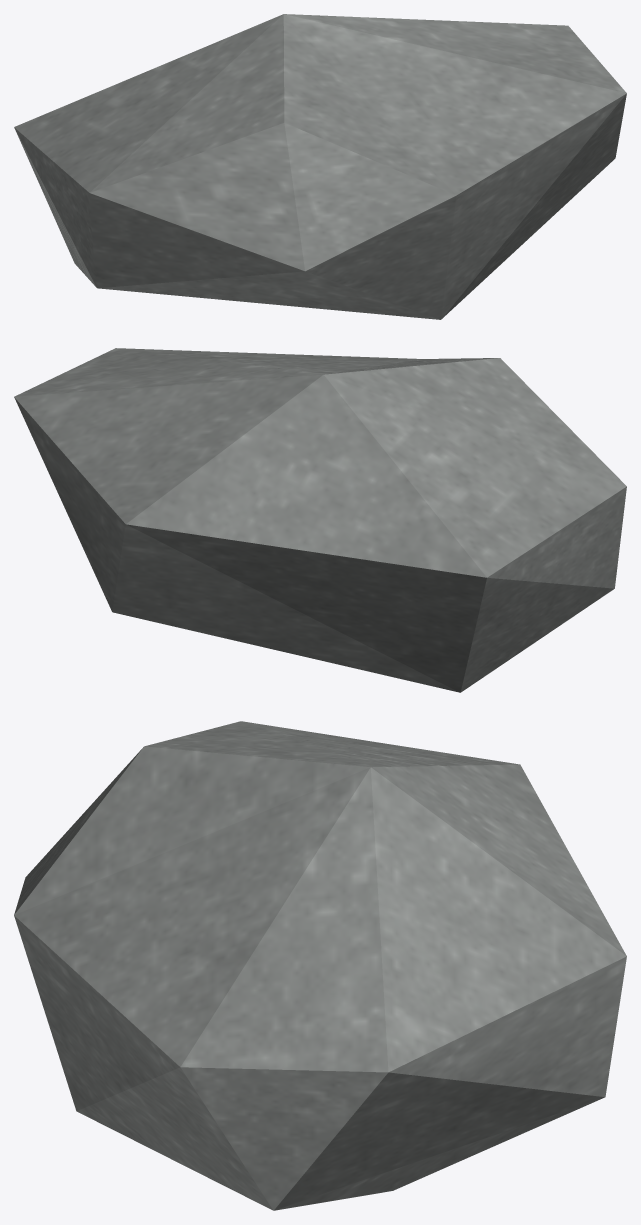
The model's file is stone_river_pebble.glb.
The picture shows the model from 3 angles, top to bottom: view 1: azimuth 30°, elevation 25°; view 2: azimuth 150°, elevation 25°; view 3: azimuth 270°, elevation 25°; orthographic projection. The views are drawn at different scales.
Parts seen in each view (by area): view 1: stone_river_pebble; view 2: stone_river_pebble; view 3: stone_river_pebble.
Part boxes in pixels (x1=…): stone_river_pebble: x1=14, y1=14, x2=626, y2=319; stone_river_pebble: x1=14, y1=348, x2=626, y2=692; stone_river_pebble: x1=14, y1=721, x2=626, y2=1210.
Size of the model in its own units: 0.31 by 0.13 by 0.23.
1 material, 1 textured.
